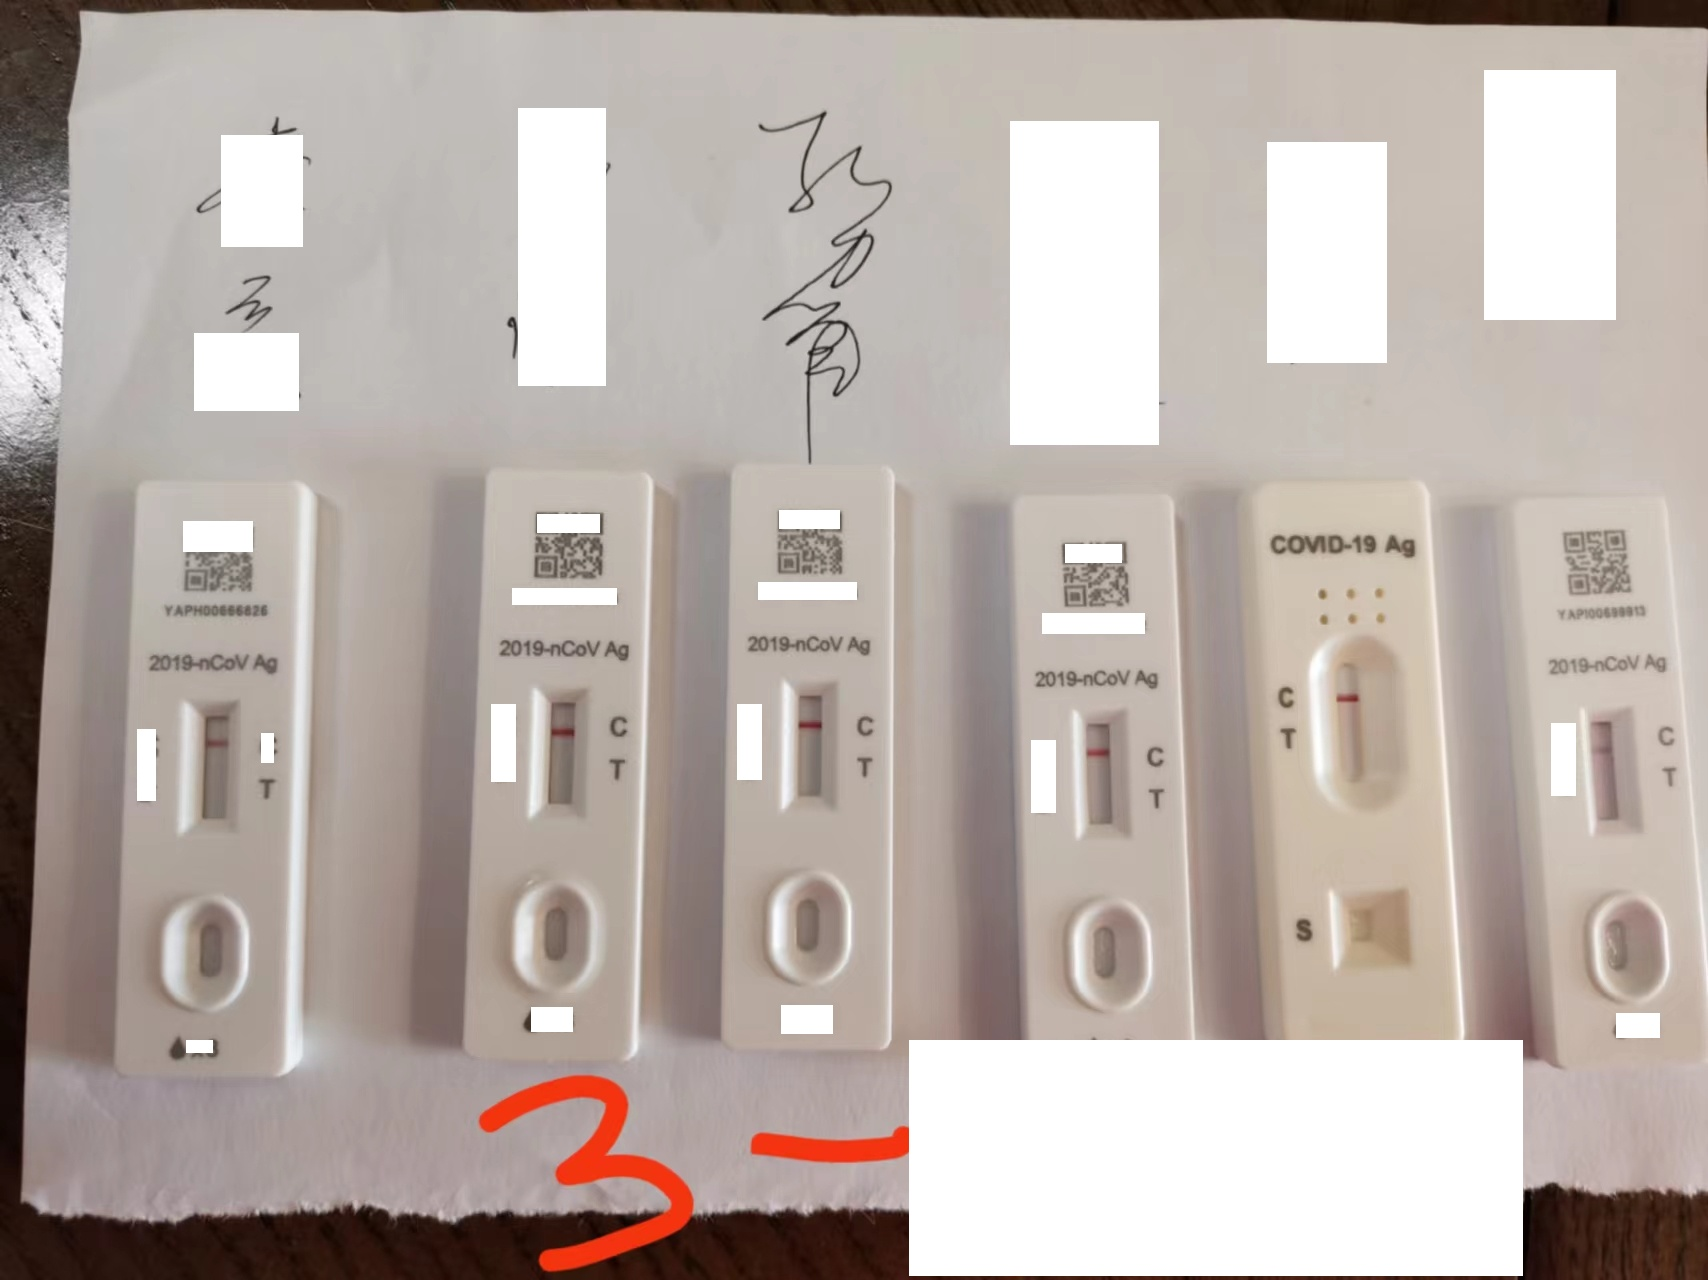negative: (1311, 636, 1407, 803), (529, 684, 586, 817), (1069, 709, 1127, 839), (184, 696, 238, 834), (1582, 703, 1635, 835), (781, 678, 834, 811)
